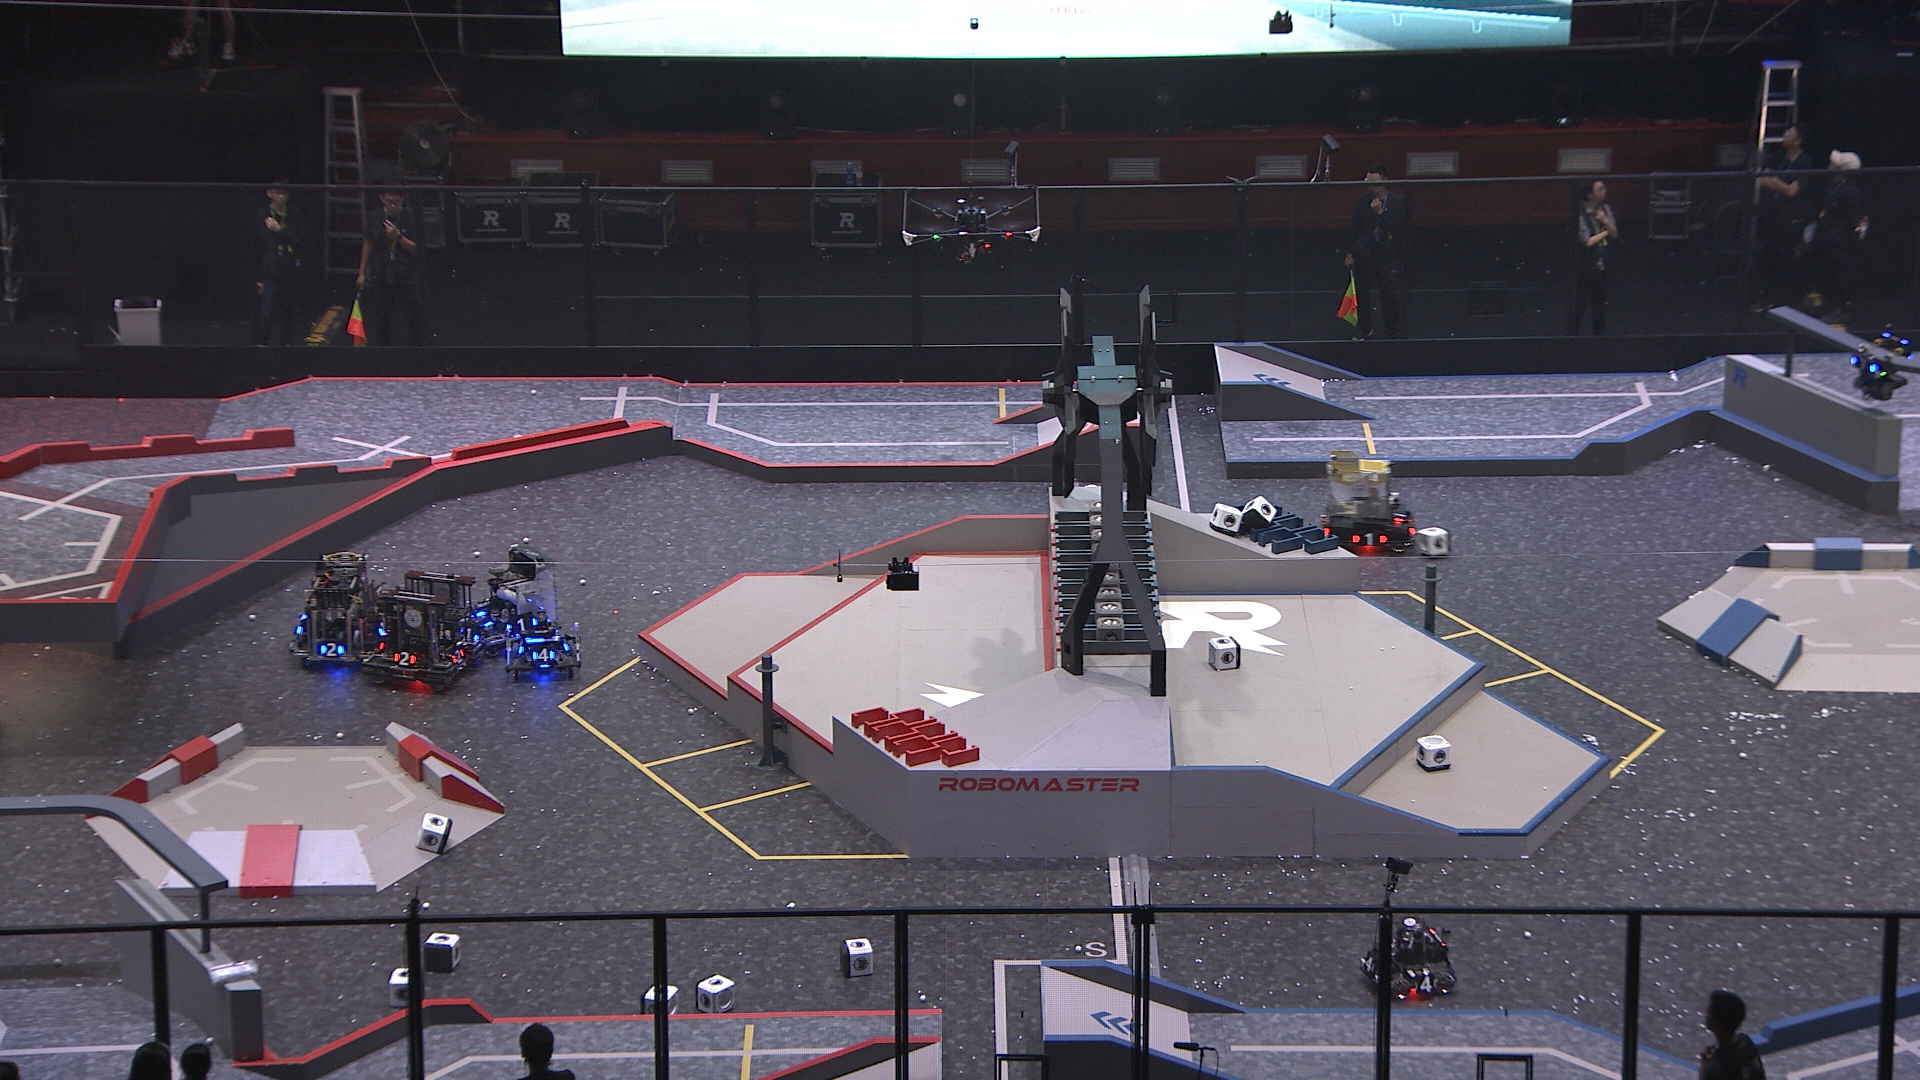armor: (501, 617, 539, 636), (1849, 353, 1879, 376), (1349, 531, 1389, 549), (472, 609, 498, 632), (390, 647, 417, 669), (460, 622, 481, 646), (527, 647, 556, 665), (1389, 504, 1408, 527), (319, 641, 344, 659), (1414, 975, 1439, 993), (448, 646, 469, 665), (513, 632, 527, 655), (1362, 951, 1375, 975)
car: (359, 566, 477, 695), (284, 549, 398, 671), (458, 541, 567, 665), (1315, 448, 1424, 556), (1360, 916, 1460, 1001), (500, 612, 585, 679)
watcher: (1845, 319, 1916, 400)
